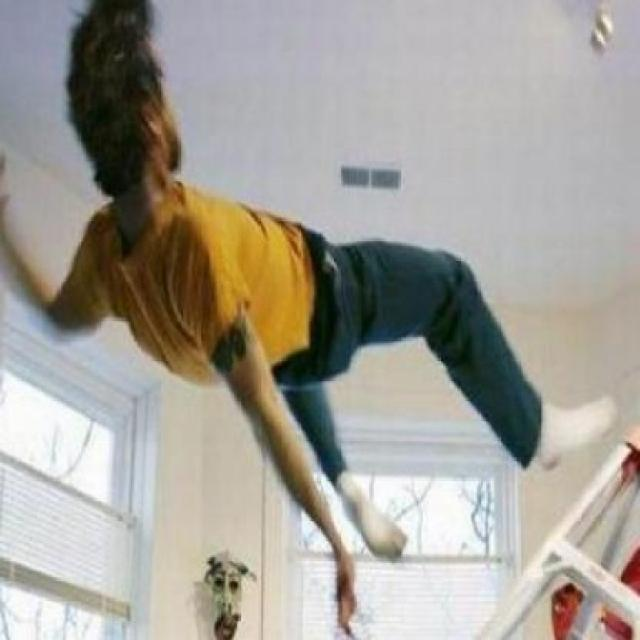fall: (0, 0, 615, 637)
